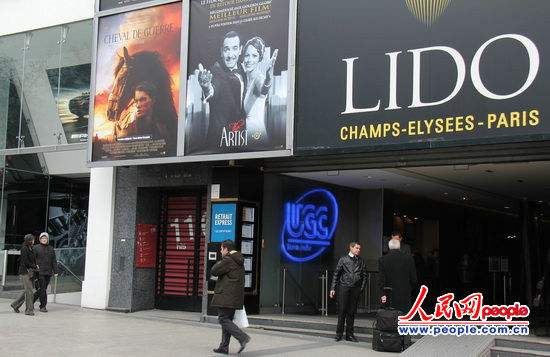bill: (296, 1, 550, 154), (184, 1, 289, 157), (92, 1, 180, 161), (210, 199, 235, 244)
